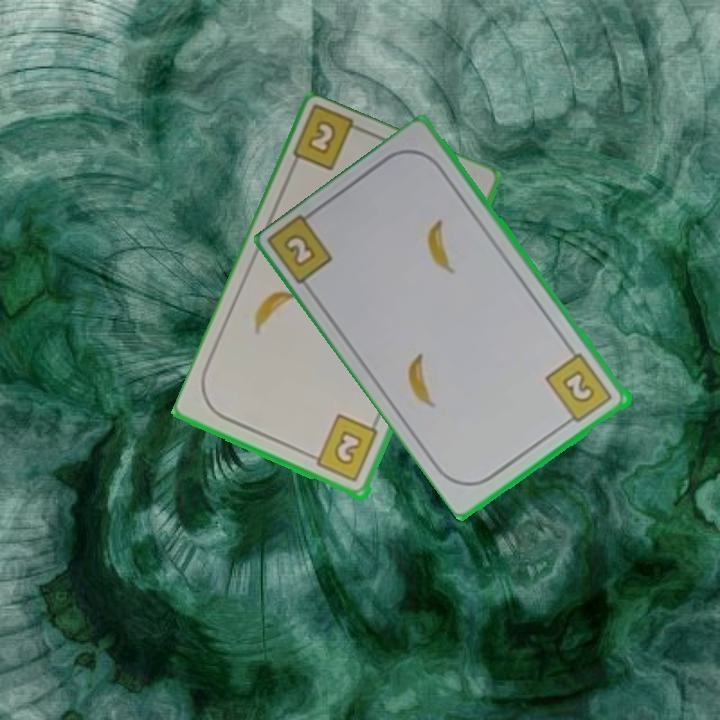2b: (542, 350, 616, 428), (305, 412, 381, 486), (280, 230, 320, 271), (303, 117, 340, 159)
